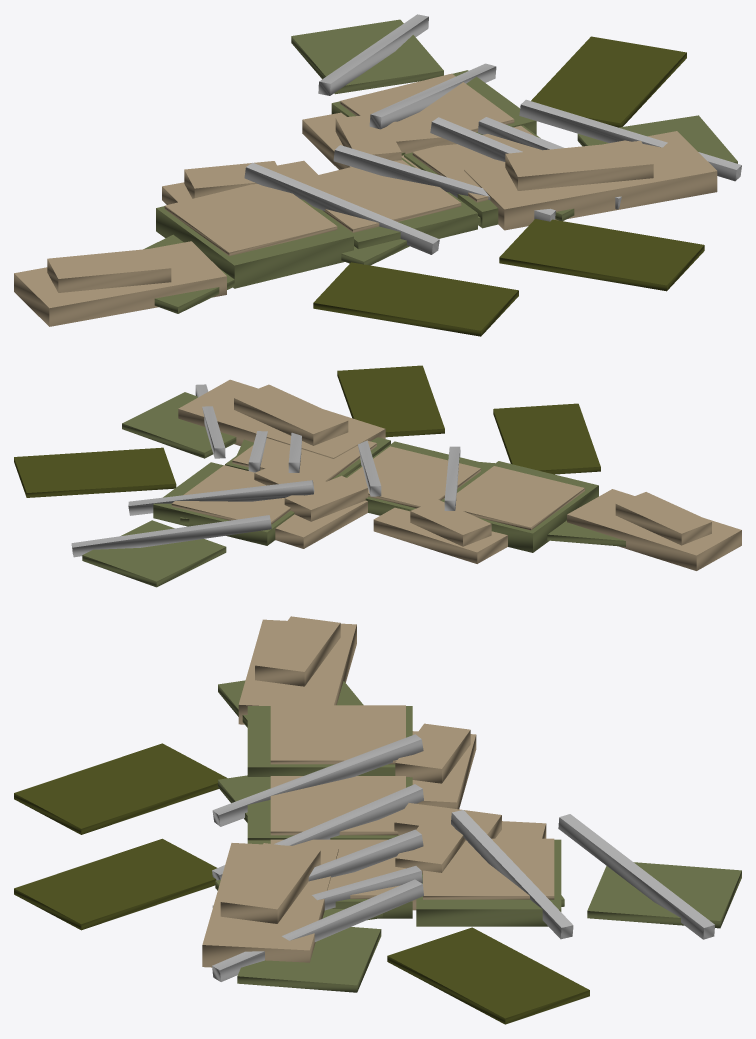
Rendered from SM_HescoRemateEspejo_v4_Red_e3_Brecha_LOD1.fbx.
3 views of the same model, one above another, from view 1: azimuth 30°, elevation 25°; view 2: azimuth 150°, elevation 25°; view 3: azimuth 270°, elevation 25° (orthographic). The views are drawn at different scales.
Parts seen in each view (by area): view 1: SM_hesco_piezas_v39_LOD1; view 2: SM_hesco_piezas_v39_LOD1; view 3: SM_hesco_piezas_v39_LOD1.
Part boxes in pixels (bbox=[...]): SM_hesco_piezas_v39_LOD1: bbox=[14, 14, 741, 336]; SM_hesco_piezas_v39_LOD1: bbox=[14, 365, 741, 587]; SM_hesco_piezas_v39_LOD1: bbox=[14, 616, 741, 1024].
Bounding box in the file's own units: 6.75 × 0.351 × 5.38.
